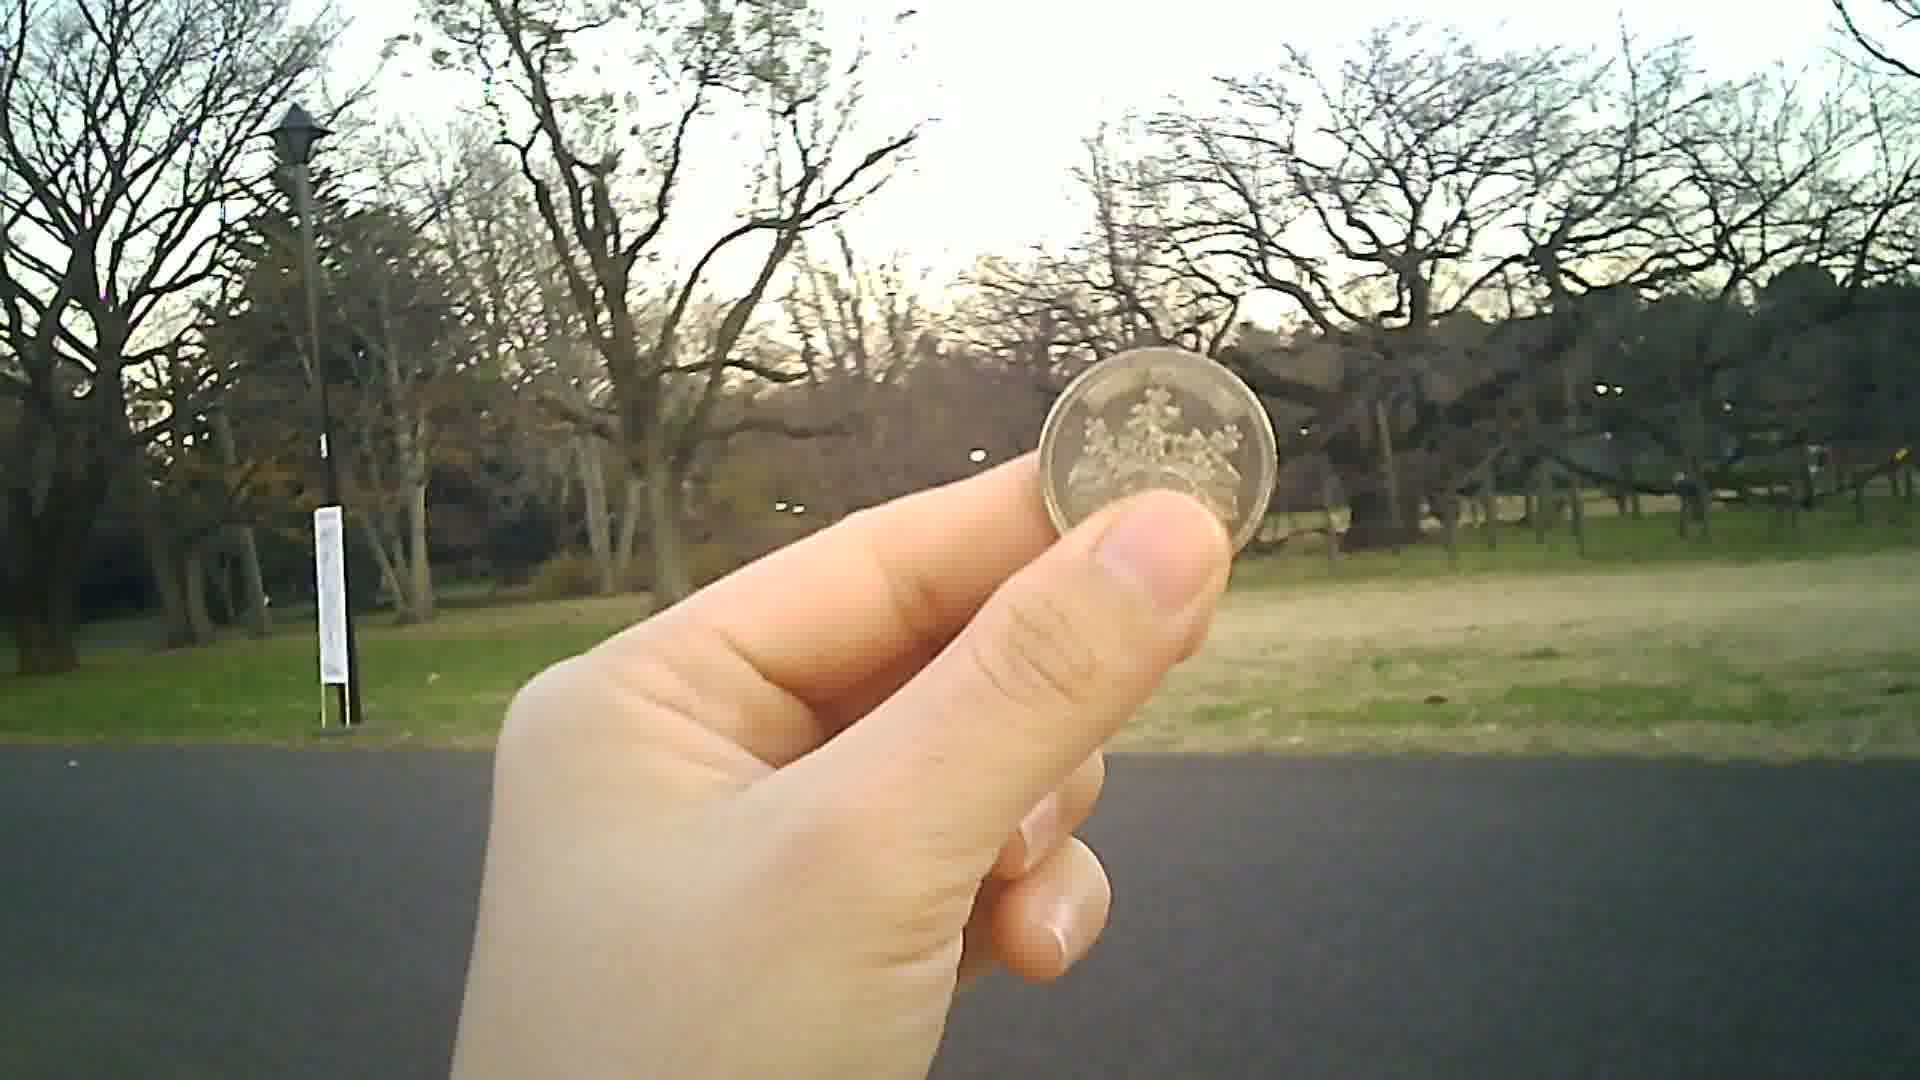500 Yen: (1033, 336, 1275, 568)
